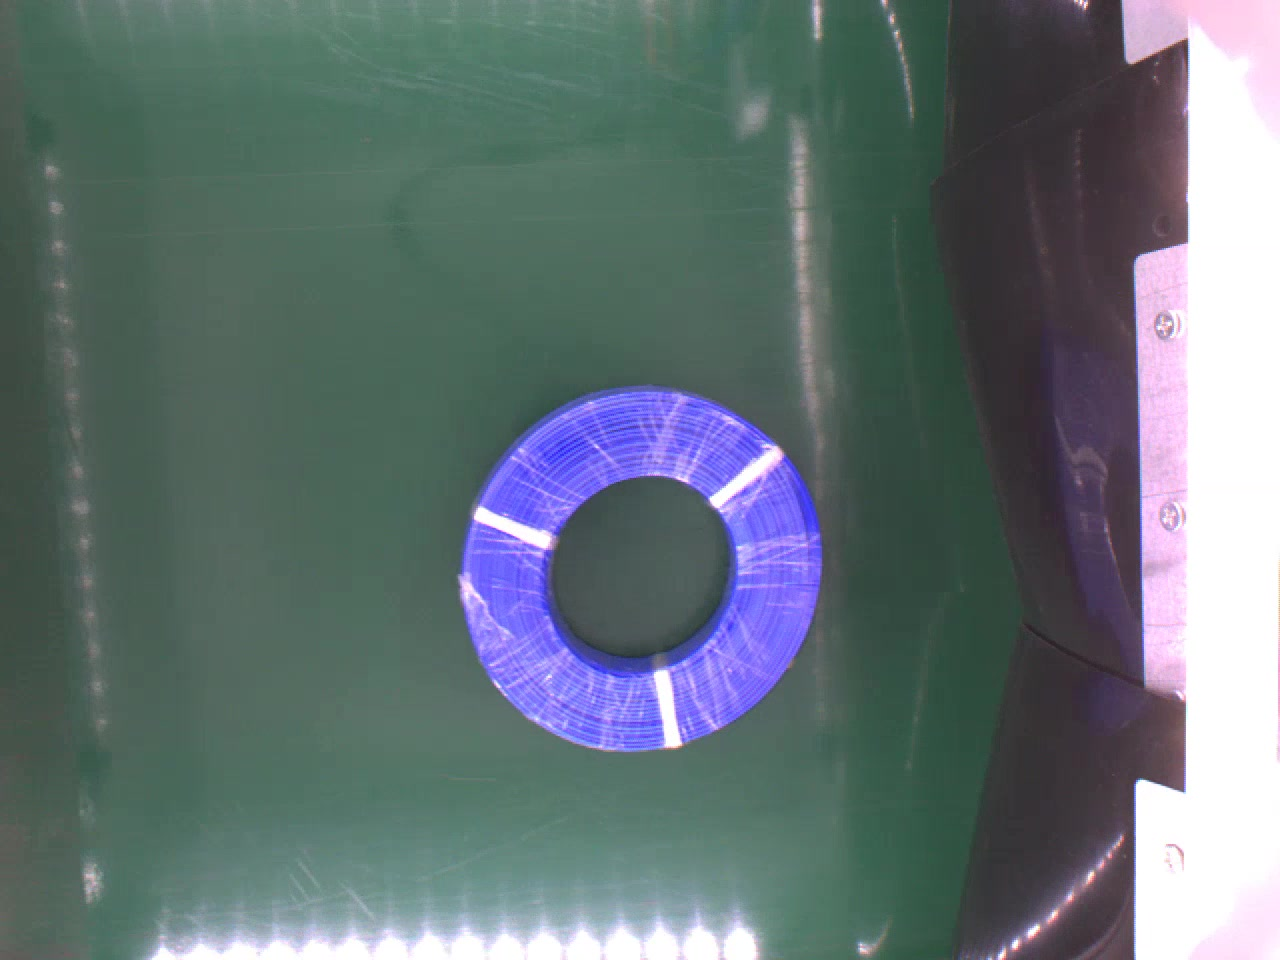blue: (453, 381, 826, 751)
